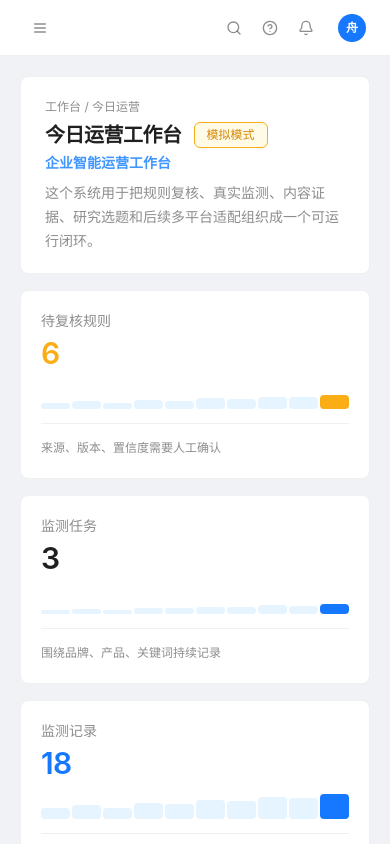
布局与可用性加固 › 移动端菜单按钮可以打开和关闭抽屉导航
Step 1. Click the button named "打开移动导航" → [40, 28], box left=24, top=12, right=56, bottom=44
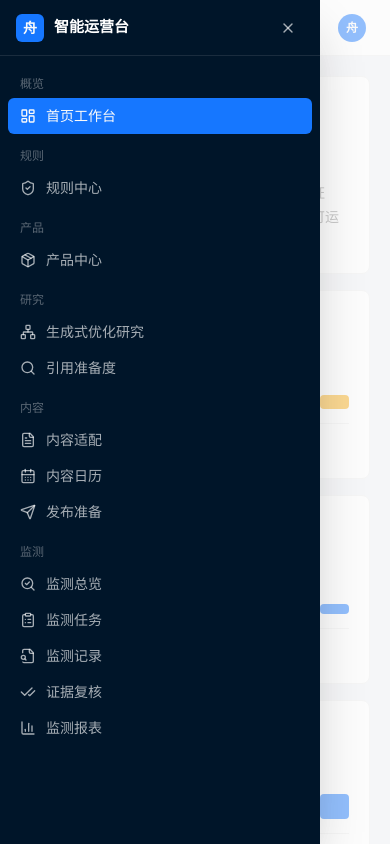
Result: the dialog named "移动端导航" is shown
Step 2. Click the button named "关闭移动导航" → [288, 28], box left=272, top=12, right=304, bottom=44
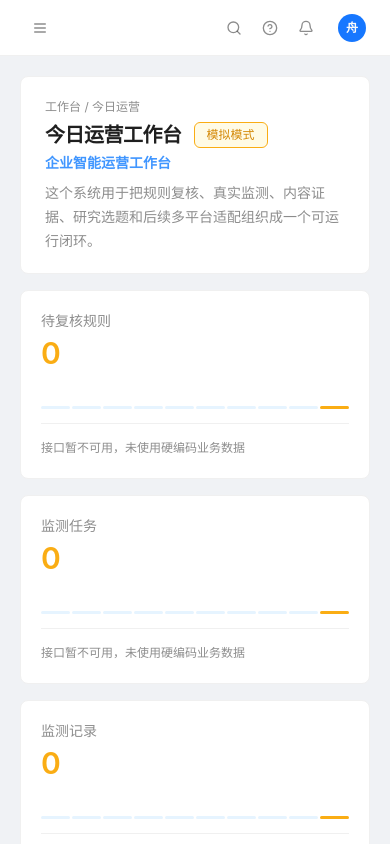
Result: the dialog "移动端导航" is gone
